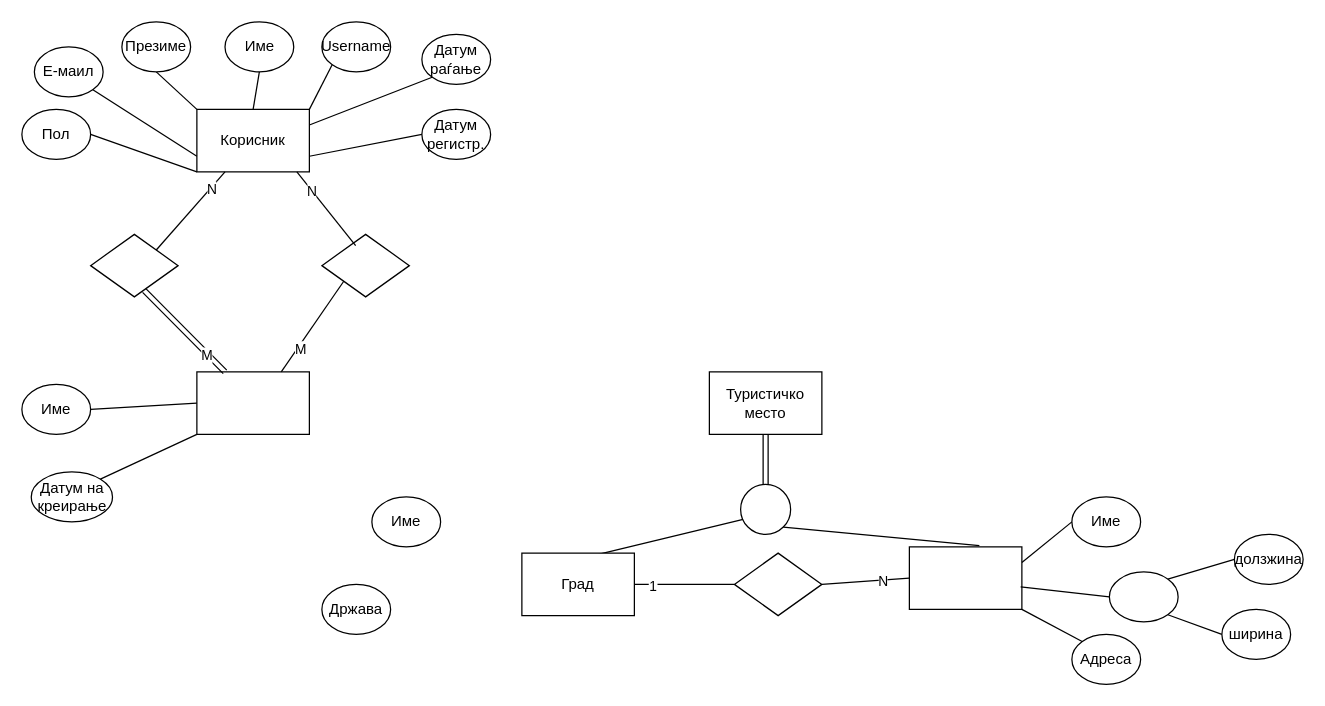
This 1325x706 diagram has some shape labels left out. The centre of each missing label's shape, as x and y in pixels:
"Гео локација" belongs at [1143,596].
"да биде" belongs at [765,508].
"Креира" belongs at [133,265].
"Листа" belongs at [252,402].
"Објект" belongs at [965,577].
"Припаѓаат" belongs at [777,584].
"Споделува" belongs at [365,265].
